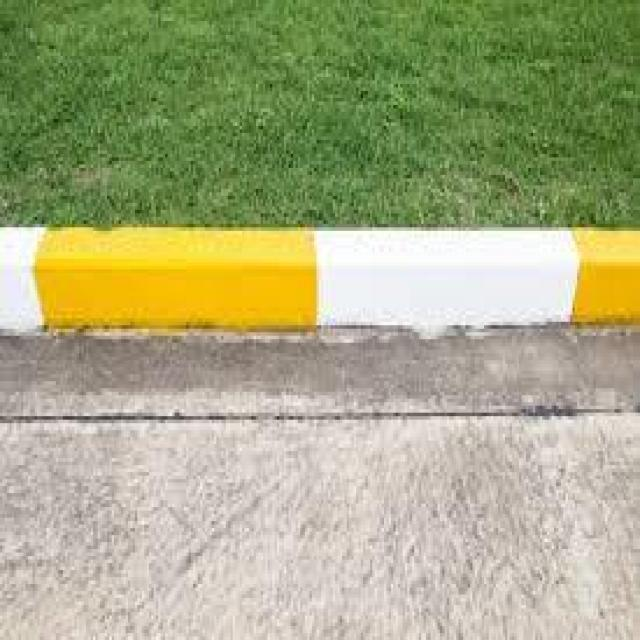curb: (1, 229, 640, 334)
